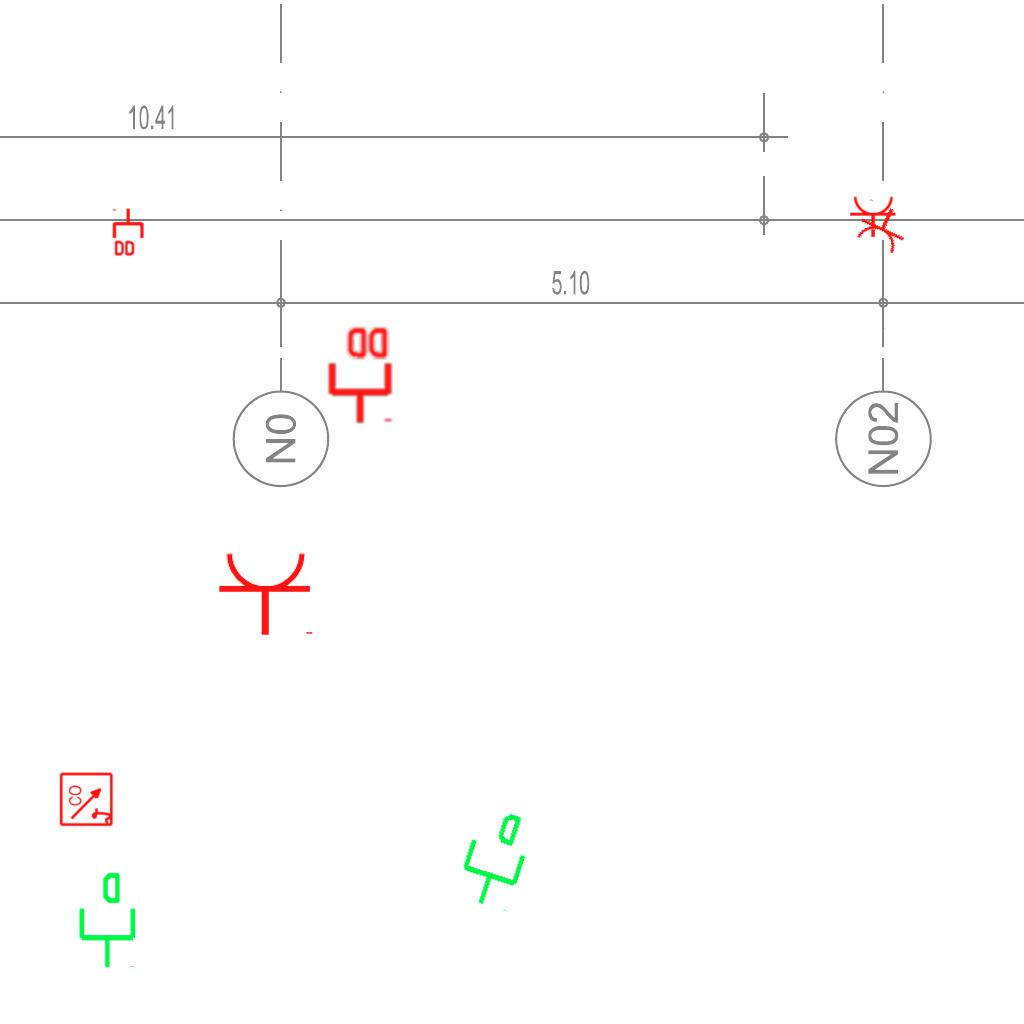Datenanschluss_einfach: (445, 799, 542, 917), (71, 870, 140, 970)
Datenanschluss_zweifach: (324, 323, 393, 426), (112, 207, 146, 258)
ROA_Rauchmelder_optisch_mit_Signalgeber_(Sockelsirene): (59, 771, 115, 827)
Schukosteckdose_einfach: (217, 550, 317, 637), (850, 196, 915, 258), (849, 195, 899, 238)
